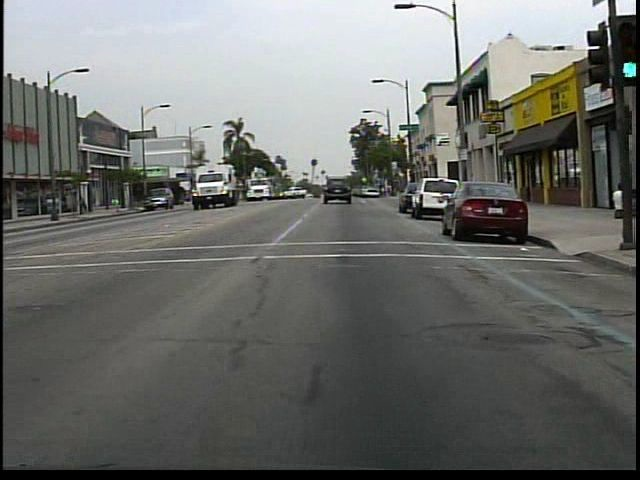person: (606, 181, 626, 218), (79, 191, 89, 216)
